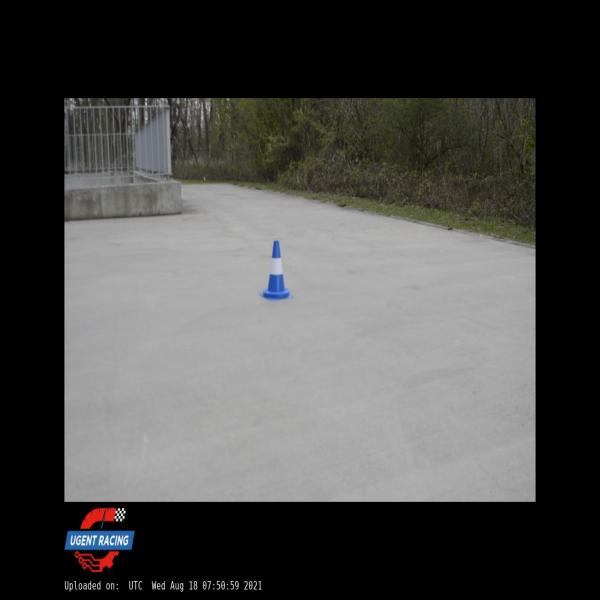blue_cone: (259, 240, 294, 301)
